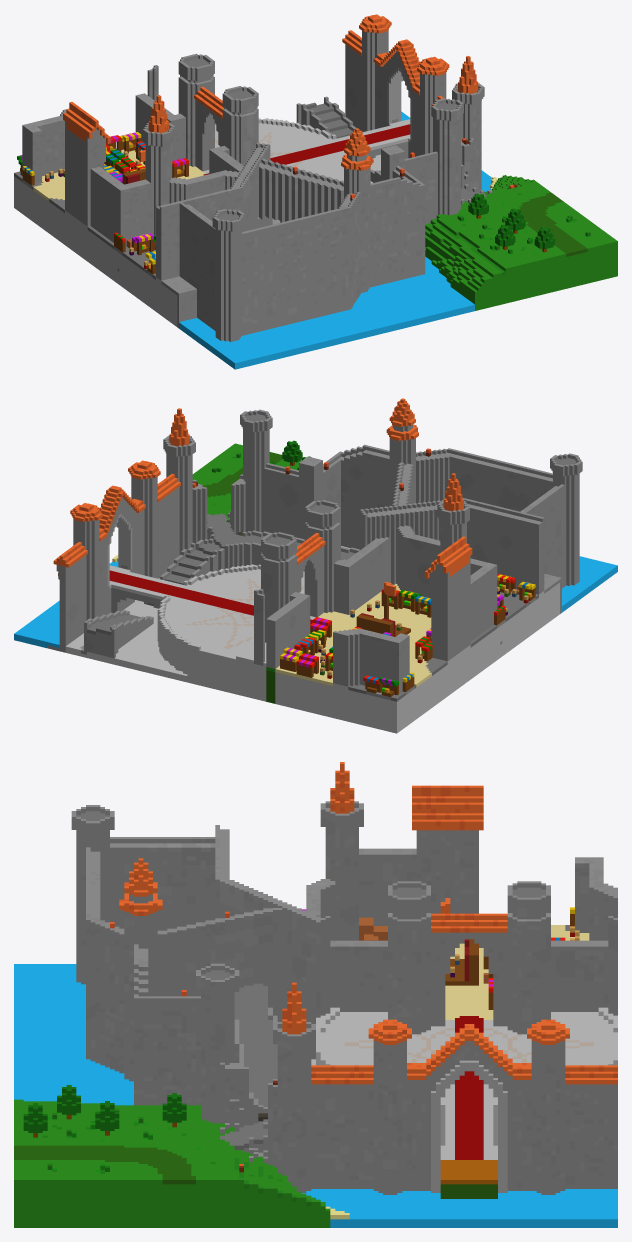
Rendered from castle-5.obj.
The picture shows the model from 3 angles, top to bottom: view 1: azimuth 30°, elevation 25°; view 2: azimuth 150°, elevation 25°; view 3: azimuth 270°, elevation 25°; orthographic projection. The views are drawn at different scales.
Bounding box in the file's own units: 12.6 × 5.5 × 12.6.
1 material, 1 textured.
